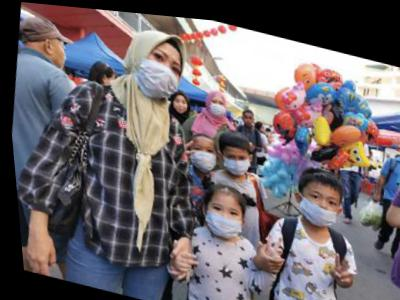NONE: (46, 35, 70, 71), (168, 89, 190, 113), (240, 108, 255, 123)
OK: (132, 38, 185, 101), (198, 193, 244, 239), (186, 136, 217, 172), (218, 144, 251, 176), (205, 91, 226, 114)
WRONG: (292, 179, 340, 223)
